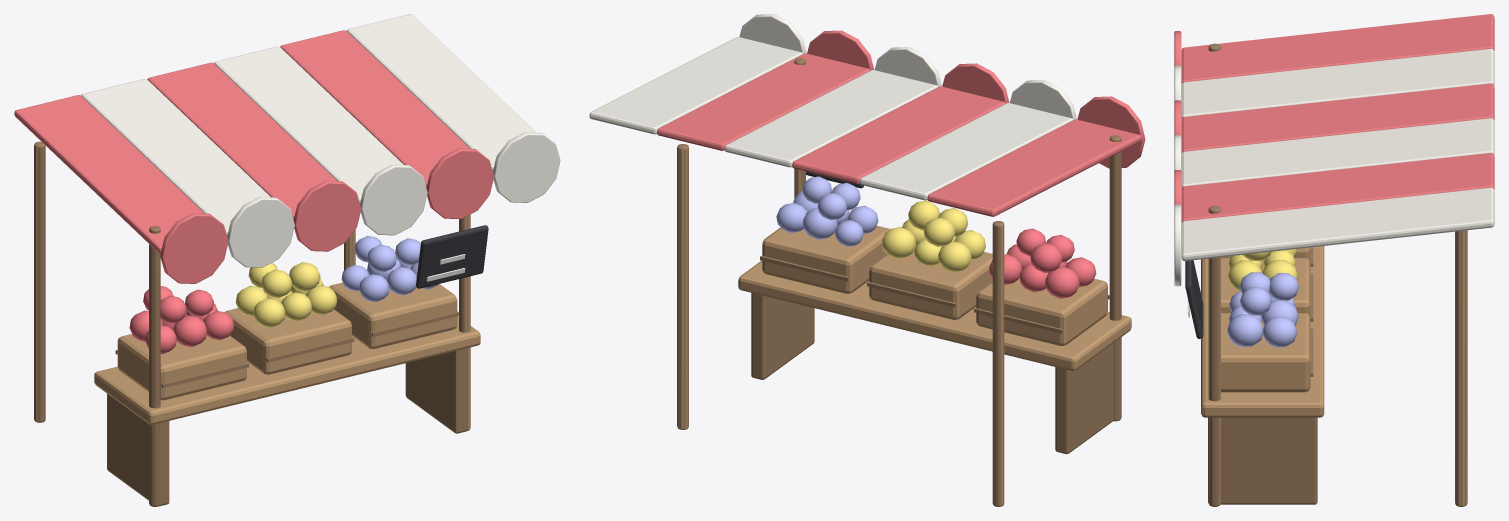
File: market_stall.fbx
3 views of the same model, side by side, from view 1: azimuth 30°, elevation 25°; view 2: azimuth 150°, elevation 25°; view 3: azimuth 270°, elevation 25° (orthographic). The views are drawn at different scales.
Parts seen in each view (by area): view 1: Visual; view 2: Visual; view 3: Visual.
Part boxes in pixels (x1=…): Visual: x1=14, y1=14, x2=560, y2=506; Visual: x1=589, y1=14, x2=1145, y2=506; Visual: x1=1174, y1=14, x2=1494, y2=506.
Size of what is drawn, in the model's own units: 360 by 262 by 234.
